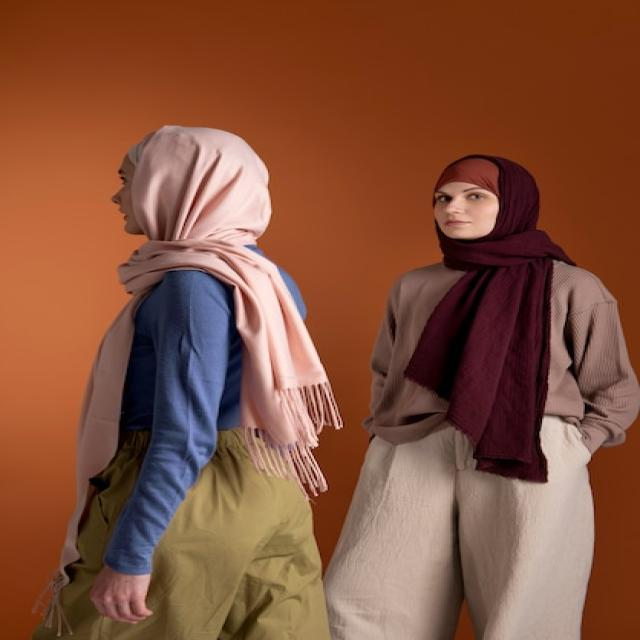Person: (24, 123, 330, 640), (323, 153, 640, 640)
